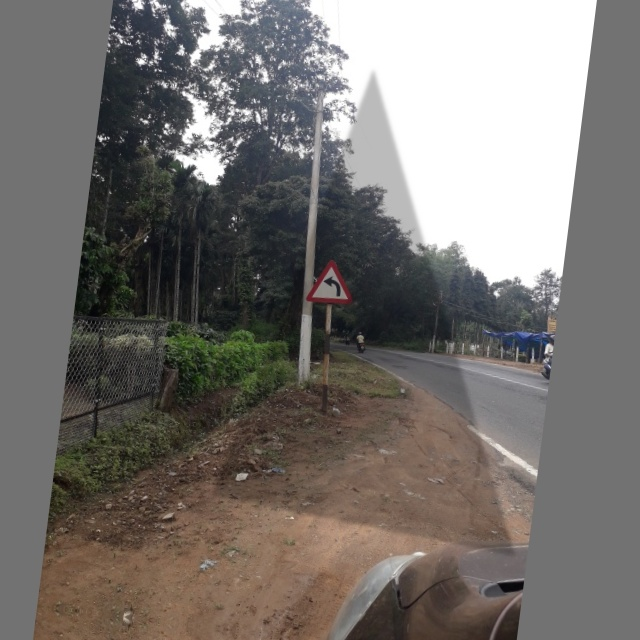Left_Hand_Curve: (307, 254, 355, 305)
